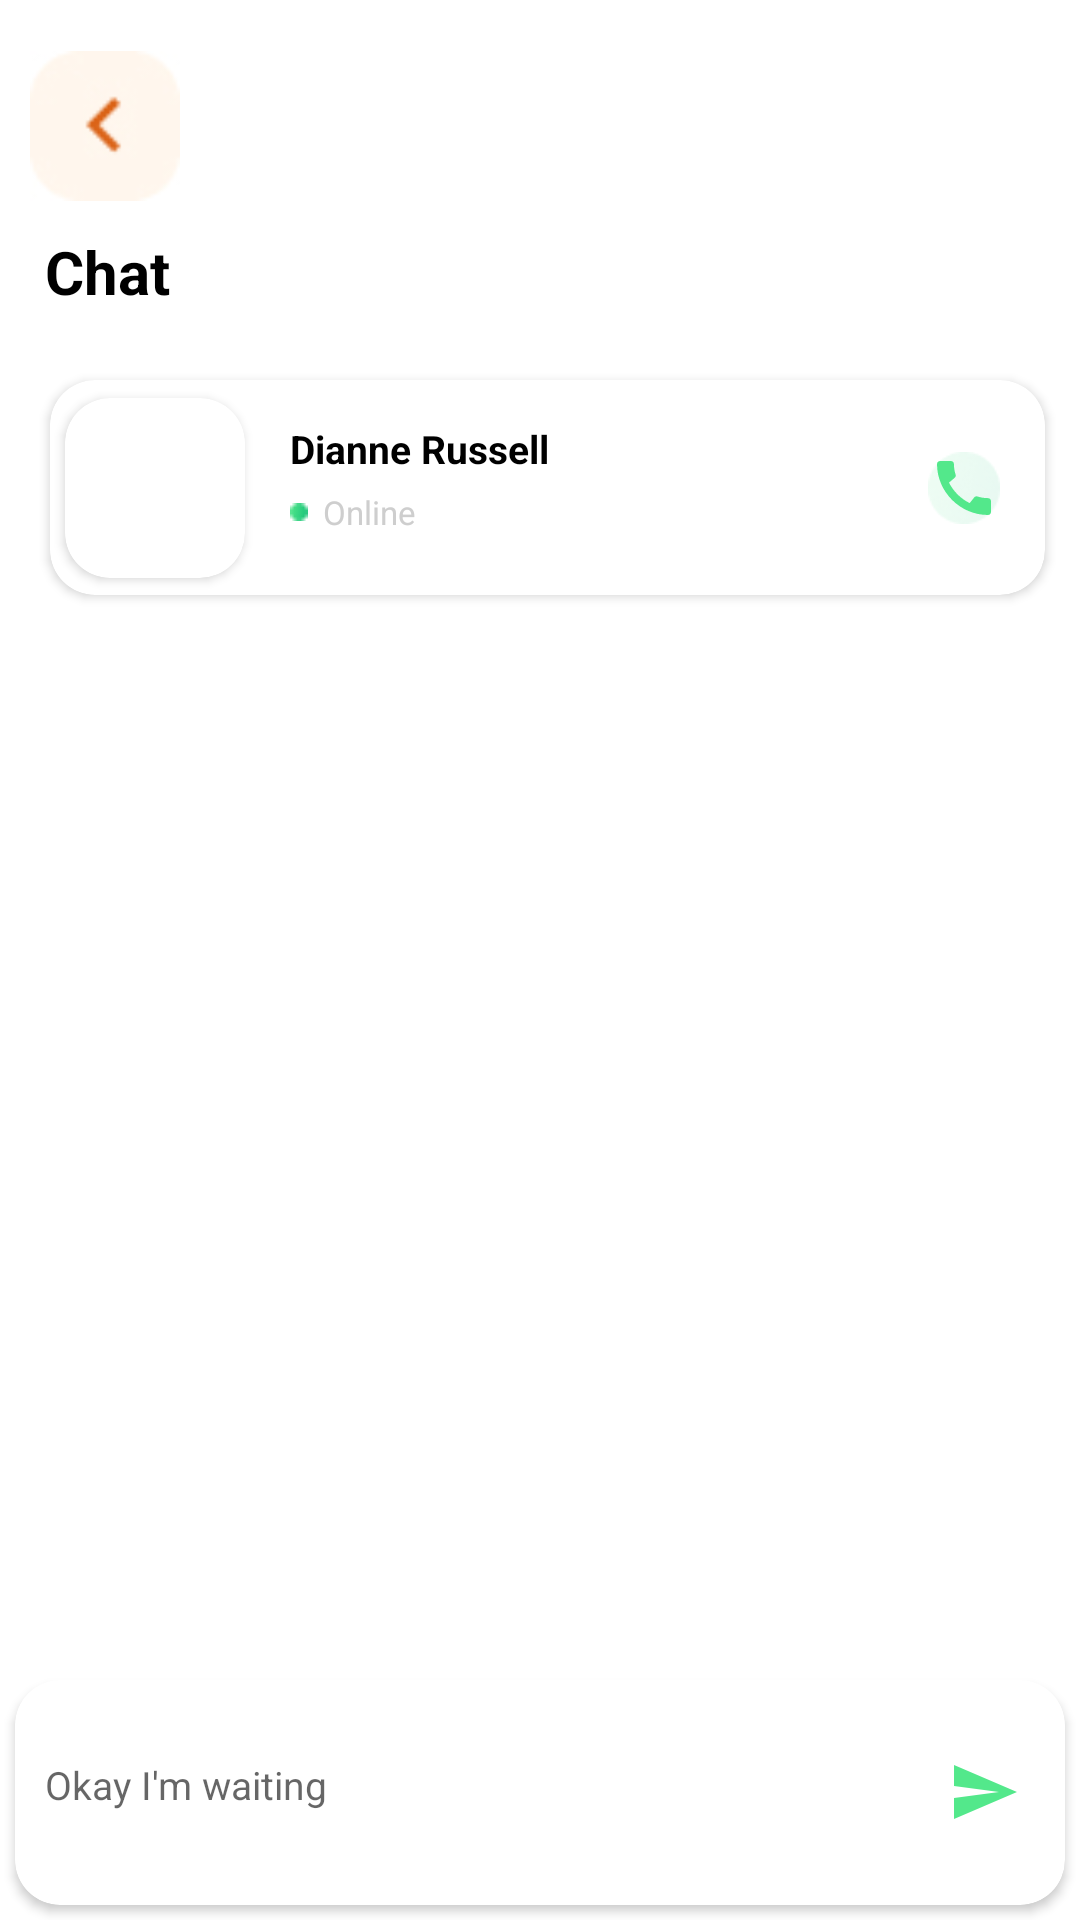

Where icons sit on this 1080x1920 app screen, as (x1, y1, x2, y2):
call: (928, 452, 1000, 524)
iconback: (30, 51, 180, 201)
send: (954, 1765, 1017, 1819)
